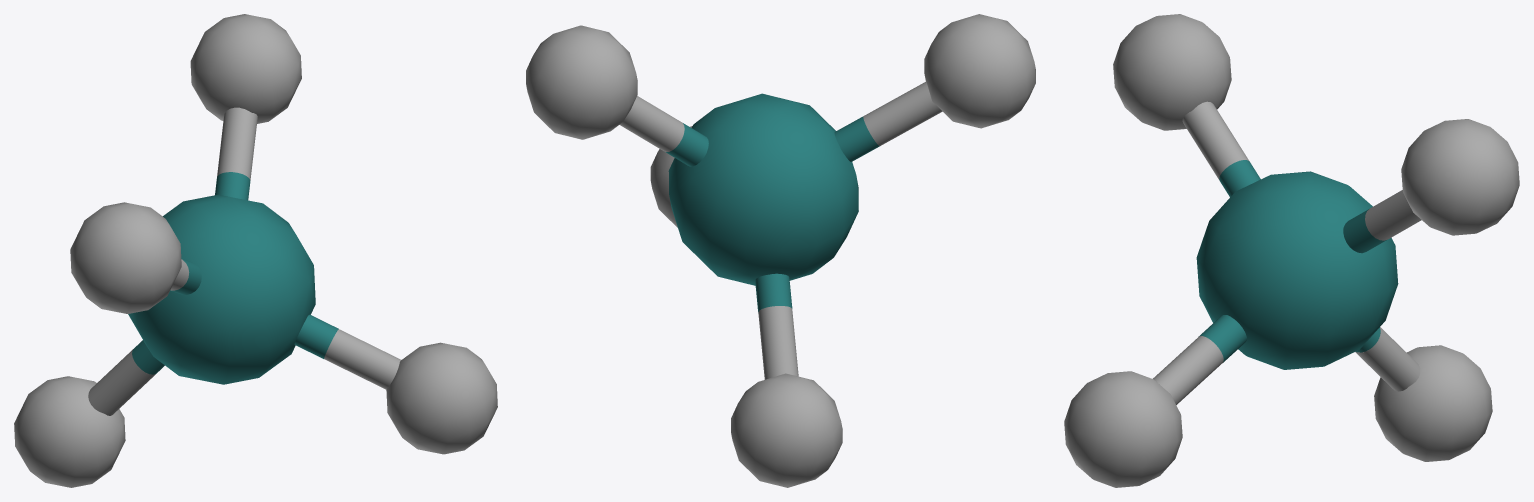
3 views of the same model, side by side, from view 1: azimuth 30°, elevation 25°; view 2: azimuth 150°, elevation 25°; view 3: azimuth 270°, elevation 25° (orthographic). The views are drawn at different scales.
Parts seen in each view (by area): view 1: vmd_mol0_rep0; view 2: vmd_mol0_rep0; view 3: vmd_mol0_rep0.
Boxes of the visible parts, bbox=[...] form: vmd_mol0_rep0: bbox=[14, 14, 497, 487]; vmd_mol0_rep0: bbox=[526, 14, 1035, 487]; vmd_mol0_rep0: bbox=[1064, 14, 1519, 487].
Bounding box in the file's own units: 1.36 × 1.36 × 1.31.
